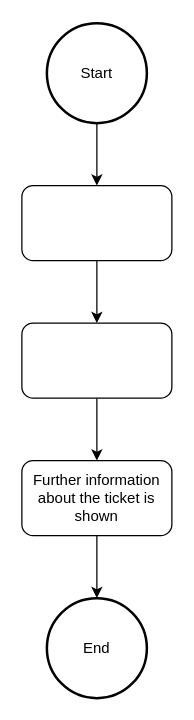
Some shapes in this 194 by 720 pixel diagram are drawn without their labels. Here are the shapes that lost their labels. From the top down, the centre of each, then its label:
At pixel 96 222: "The user views a list of submitted tickets".
At pixel 96 360: "The user selects a ticket".
